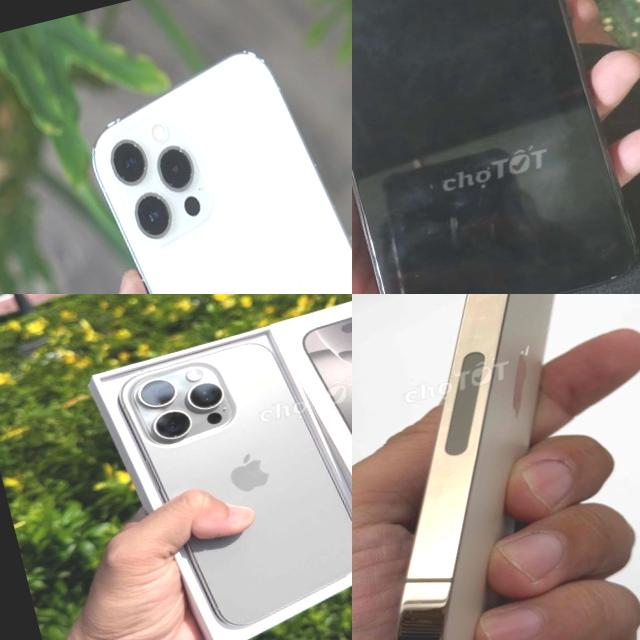gen_11: (352, 0, 640, 294)
gen_12_13: (69, 21, 352, 294)
gen_14: (395, 294, 553, 640)
gen_16: (113, 338, 352, 625)
scratch: (604, 272, 622, 284)
